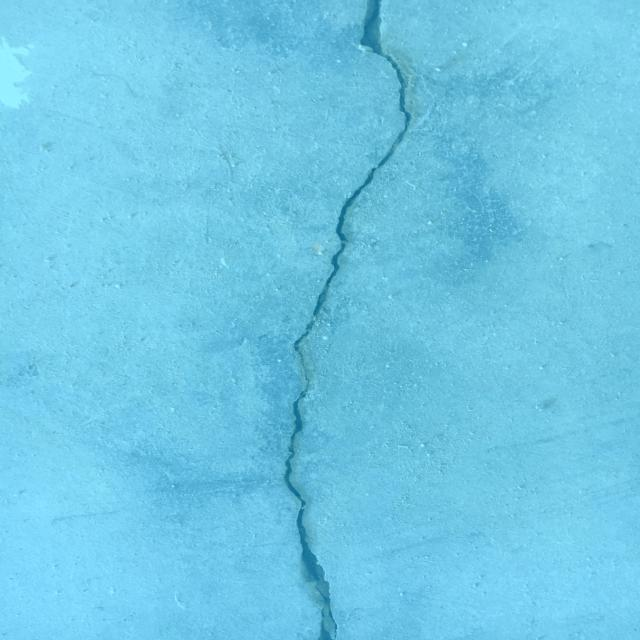crack: (283, 0, 413, 640)
